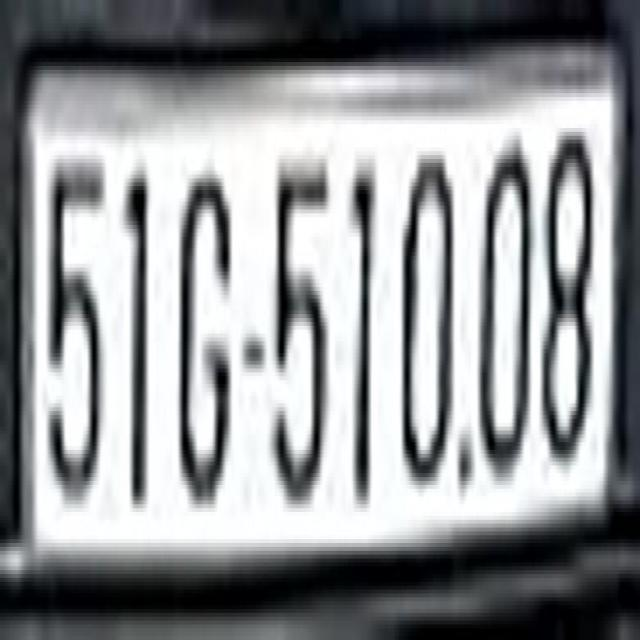0: (477, 136, 531, 488), (404, 143, 452, 481)
1: (51, 144, 106, 508), (342, 155, 378, 504), (121, 166, 155, 508)
5: (270, 155, 332, 493)
8: (543, 124, 593, 473)
G: (176, 171, 233, 516)
